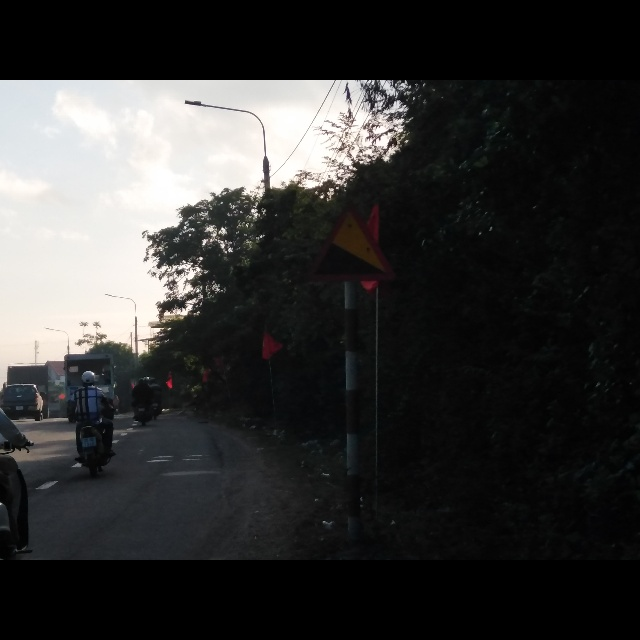Dốc lên nguy hiểm: (301, 198, 392, 285)
